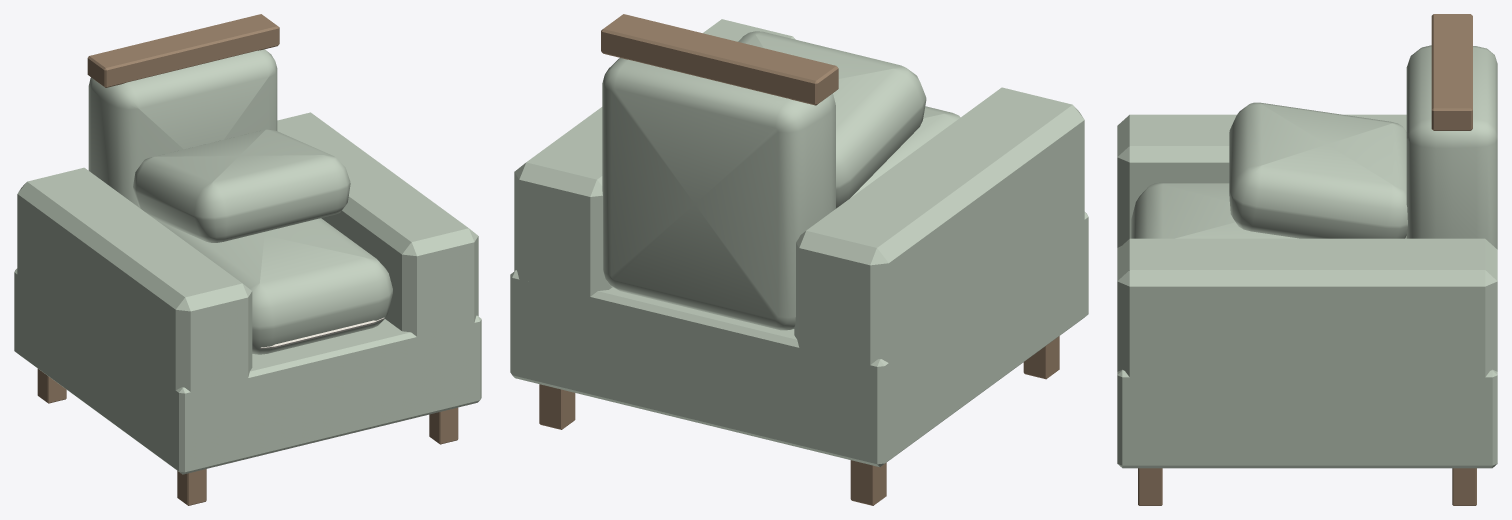
File: armchair.glb
3 renders of one model, left to right at view 1: azimuth 30°, elevation 25°; view 2: azimuth 150°, elevation 25°; view 3: azimuth 270°, elevation 25°, orthographic. The views are drawn at different scales.
Parts seen in each view (by area): view 1: armchair-lounge; view 2: armchair-lounge; view 3: armchair-lounge.
Boxes of the visible parts, <box> form: armchair-lounge: <box>14,14,481,505</box>; armchair-lounge: <box>510,14,1088,505</box>; armchair-lounge: <box>1117,14,1497,505</box>.
Size of the model in its own units: 0.95 by 0.99 by 0.92.
